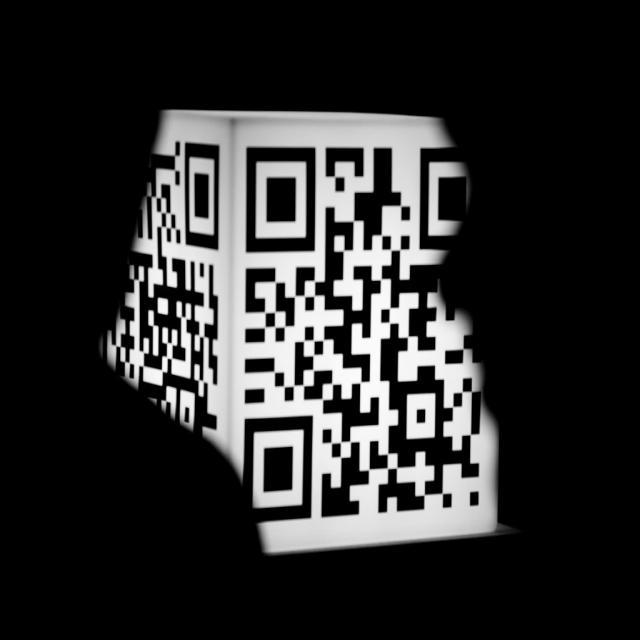qr_code: (242, 145, 482, 522), (109, 140, 220, 448)
